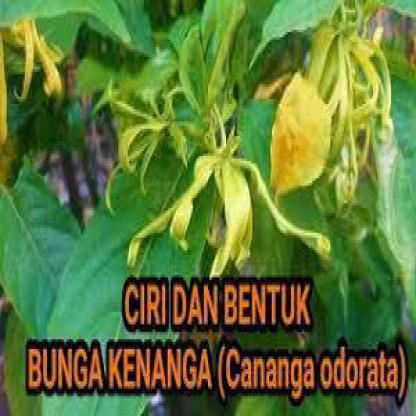Kenanga: (126, 68, 273, 276), (18, 13, 73, 125)
